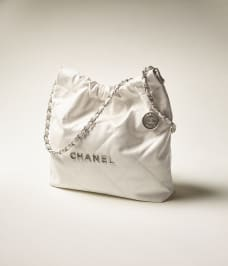channel: (32, 57, 187, 209), (64, 85, 114, 147), (55, 147, 114, 173), (139, 106, 162, 135)
